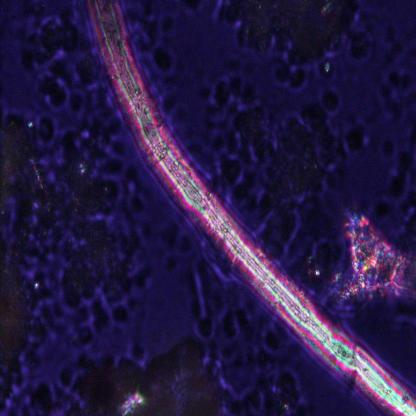Microfibre: (87, 1, 416, 415)
